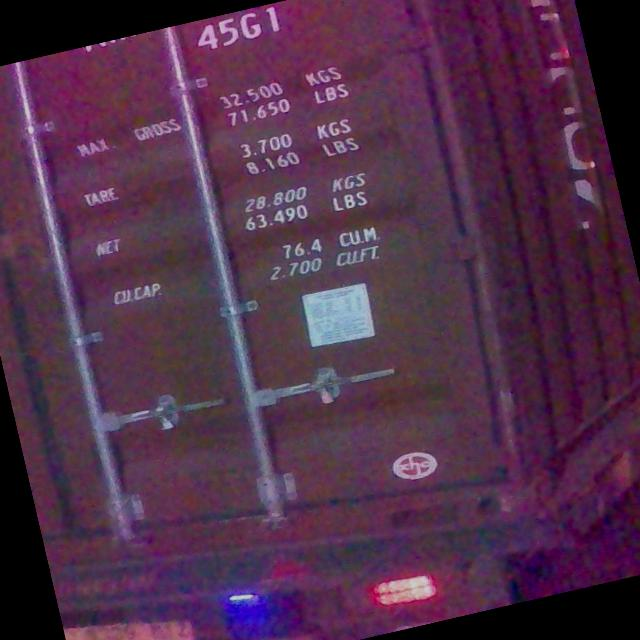seal: (308, 372, 349, 412), (146, 396, 188, 434)
